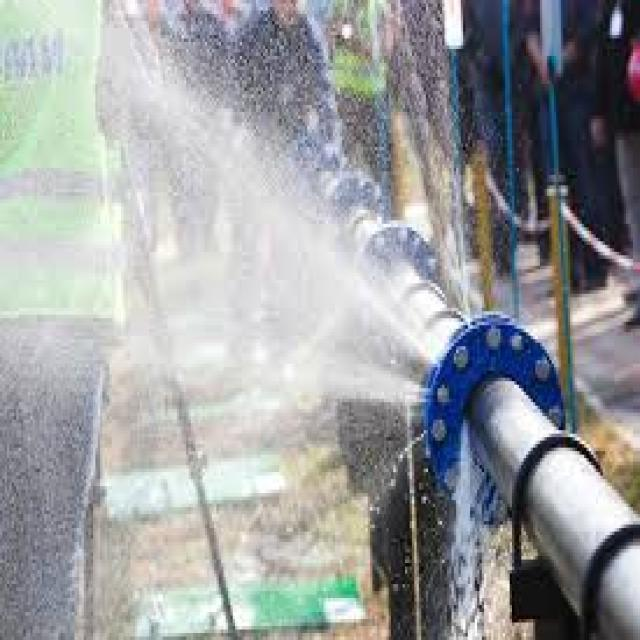corrosion: (258, 222, 518, 513)
